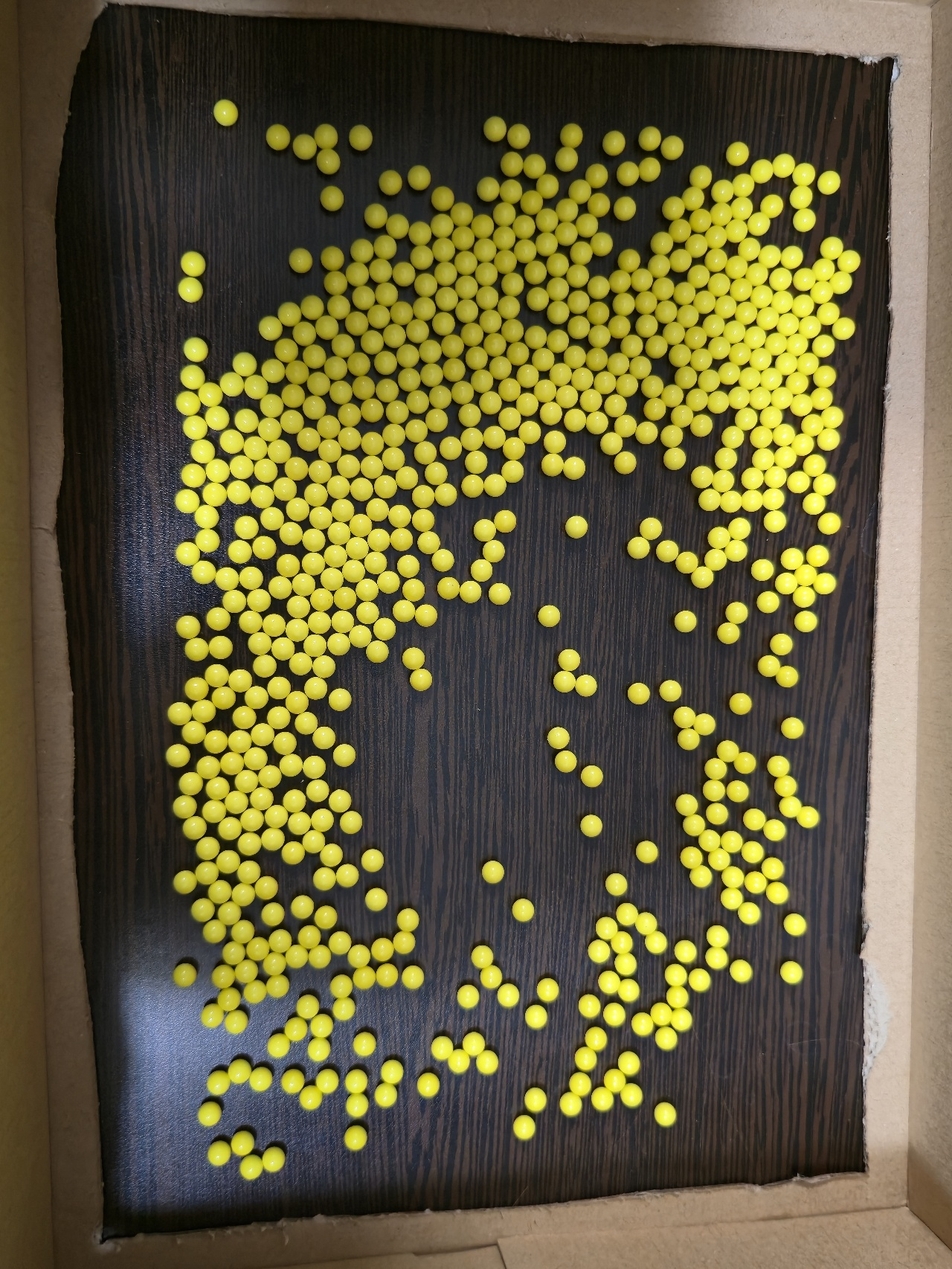yellow_bead: (785, 802, 814, 823), (181, 547, 195, 560), (211, 464, 225, 477), (235, 460, 248, 474), (196, 445, 210, 458), (225, 435, 239, 448), (240, 414, 253, 428), (186, 370, 199, 384), (270, 810, 283, 823), (228, 595, 241, 608), (201, 534, 214, 547), (240, 521, 253, 534), (200, 510, 213, 523), (181, 495, 194, 508), (187, 469, 200, 482), (189, 421, 202, 434), (225, 378, 238, 391), (238, 358, 251, 371), (530, 1010, 542, 1024), (187, 257, 199, 271), (321, 1075, 333, 1088), (386, 1065, 398, 1078), (623, 1057, 635, 1070), (302, 1000, 314, 1013), (680, 945, 692, 958), (789, 919, 802, 931), (214, 885, 226, 898), (202, 842, 214, 855), (184, 777, 196, 790), (309, 761, 321, 774), (234, 545, 246, 558), (208, 488, 220, 501), (233, 486, 245, 499), (279, 483, 292, 495), (260, 464, 272, 477), (249, 442, 262, 454), (303, 433, 315, 446), (266, 399, 278, 412), (181, 397, 193, 410), (250, 381, 263, 393), (267, 364, 279, 377), (774, 273, 787, 285), (756, 165, 768, 178), (530, 1093, 541, 1107), (437, 1042, 448, 1056), (359, 1038, 370, 1052), (380, 1090, 392, 1102), (350, 1076, 362, 1088), (660, 1032, 672, 1044), (694, 974, 706, 986), (407, 971, 419, 983), (353, 950, 365, 962), (334, 937, 346, 949), (274, 935, 286, 947), (744, 907, 756, 919), (297, 901, 309, 913), (367, 855, 379, 867), (747, 846, 759, 858), (308, 835, 320, 847), (294, 817, 306, 829), (246, 814, 258, 826), (240, 775, 252, 787), (172, 750, 184, 762), (279, 737, 291, 749), (300, 717, 312, 729), (273, 712, 285, 724), (277, 643, 289, 655), (309, 640, 321, 652), (254, 637, 266, 649), (268, 620, 280, 632), (292, 601, 304, 613), (274, 582, 286, 594), (298, 579, 310, 591), (329, 550, 341, 562), (308, 534, 320, 546), (333, 527, 345, 539), (479, 524, 491, 536), (315, 512, 327, 524), (808, 498, 820, 510), (257, 490, 269, 502), (366, 461, 378, 473), (343, 460, 355, 472), (445, 442, 457, 454), (727, 431, 739, 443), (263, 423, 275, 435), (286, 416, 298, 428), (308, 402, 320, 414), (762, 312, 774, 324), (519, 1121, 530, 1134), (660, 1108, 671, 1121), (565, 1098, 576, 1111), (482, 1056, 493, 1069), (469, 1038, 480, 1051), (584, 1000, 595, 1013), (463, 990, 474, 1003), (503, 989, 514, 1002), (623, 984, 634, 997), (786, 966, 797, 979), (594, 945, 605, 958), (243, 838, 256, 849), (178, 801, 191, 812), (231, 796, 242, 809), (210, 669, 223, 680), (332, 638, 345, 649), (253, 594, 266, 605), (823, 518, 836, 529), (266, 513, 279, 524), (766, 494, 779, 505), (273, 446, 286, 457), (823, 176, 834, 189), (779, 159, 790, 172), (204, 1109, 215, 1121), (597, 1093, 608, 1105), (313, 1045, 325, 1056), (273, 1041, 284, 1053), (609, 1009, 620, 1021), (336, 980, 347, 992), (670, 969, 682, 980), (736, 965, 747, 977), (477, 951, 488, 963), (712, 931, 724, 942), (402, 914, 414, 925), (267, 908, 279, 919), (371, 893, 382, 905), (611, 878, 622, 890), (341, 870, 353, 881), (223, 855, 234, 867), (326, 849, 337, 861), (287, 847, 299, 858), (641, 846, 652, 858), (267, 834, 279, 845), (224, 823, 235, 835), (189, 822, 201, 833), (586, 820, 597, 832), (208, 806, 220, 817), (289, 795, 300, 807), (250, 753, 262, 764), (338, 750, 350, 761), (257, 729, 269, 740), (273, 682, 285, 693), (318, 661, 330, 672), (295, 658, 307, 669), (776, 639, 788, 650), (291, 624, 303, 635), (337, 616, 349, 627), (762, 597, 774, 608), (780, 578, 792, 589), (383, 576, 394, 588), (348, 565, 360, 576), (787, 553, 798, 565), (571, 521, 582, 533), (769, 516, 781, 527), (337, 504, 349, 515), (292, 504, 304, 515), (747, 495, 759, 506), (356, 483, 367, 495), (332, 481, 344, 492), (720, 453, 732, 464), (387, 453, 399, 464), (367, 437, 379, 448), (550, 436, 561, 448), (344, 432, 356, 443), (489, 431, 500, 443), (388, 429, 400, 440), (620, 420, 631, 432), (570, 414, 581, 426), (431, 414, 443, 425), (504, 413, 515, 425), (765, 412, 777, 423), (797, 399, 808, 411), (724, 367, 735, 379), (780, 359, 792, 370), (837, 323, 849, 334), (265, 323, 277, 334), (783, 318, 794, 330), (823, 308, 834, 320), (835, 277, 846, 289), (843, 256, 855, 267), (826, 242, 837, 254), (795, 191, 807, 202), (627, 1089, 637, 1102), (638, 1018, 648, 1031), (543, 983, 553, 996), (604, 976, 614, 989), (622, 908, 632, 921), (313, 617, 326, 627), (798, 592, 811, 602), (197, 569, 210, 579), (756, 565, 769, 575), (309, 489, 322, 499), (472, 456, 482, 469), (204, 388, 214, 401), (231, 1017, 242, 1028), (291, 951, 302, 962), (228, 948, 239, 959), (651, 937, 662, 948), (237, 925, 248, 936), (641, 918, 652, 929), (224, 908, 235, 919), (518, 905, 529, 916), (319, 873, 330, 884), (355, 631, 366, 642), (379, 623, 390, 634), (494, 588, 505, 599), (820, 578, 831, 589), (403, 560, 414, 571), (681, 557, 692, 568), (710, 554, 721, 565), (437, 554, 448, 565), (731, 545, 742, 556), (633, 542, 644, 553), (423, 537, 434, 548), (734, 523, 745, 534), (646, 523, 657, 534), (356, 519, 367, 530), (394, 510, 405, 521), (372, 504, 383, 515), (704, 495, 715, 506), (418, 490, 429, 501), (440, 489, 451, 500), (490, 480, 501, 491), (718, 475, 729, 486), (771, 472, 782, 483), (697, 472, 708, 483), (548, 459, 559, 470), (758, 454, 769, 465), (670, 453, 681, 464), (324, 445, 335, 456), (798, 439, 809, 450), (606, 438, 617, 449), (823, 434, 834, 445), (466, 433, 477, 444), (756, 431, 767, 442), (779, 429, 790, 440), (411, 425, 422, 436), (807, 420, 818, 431), (741, 414, 752, 425), (827, 412, 838, 423), (733, 392, 744, 403), (562, 391, 573, 402), (745, 373, 756, 384), (714, 342, 725, 353), (792, 339, 803, 350), (738, 179, 749, 190), (454, 1056, 464, 1068), (711, 954, 723, 964), (315, 951, 325, 963), (602, 922, 612, 934), (197, 904, 209, 914), (727, 872, 739, 882), (201, 867, 213, 877), (488, 866, 498, 878), (243, 866, 255, 876), (769, 825, 781, 835), (345, 817, 357, 827), (239, 712, 251, 722), (197, 705, 209, 715), (291, 696, 303, 706), (251, 692, 263, 702), (800, 617, 812, 627), (361, 607, 373, 617), (326, 574, 338, 584), (370, 557, 382, 567), (373, 534, 385, 544), (819, 479, 831, 489), (793, 477, 805, 487), (314, 466, 326, 476), (419, 447, 431, 457), (666, 431, 678, 441), (524, 426, 536, 436), (413, 396, 423, 408), (776, 393, 788, 403), (791, 378, 803, 388), (772, 338, 782, 350), (817, 264, 829, 274), (765, 251, 775, 263), (173, 707, 186, 716), (214, 641, 227, 650), (221, 576, 234, 585), (290, 463, 303, 472), (215, 412, 224, 425), (466, 409, 475, 422), (189, 283, 197, 297), (656, 1008, 666, 1019), (620, 960, 631, 970), (617, 937, 627, 948), (727, 895, 738, 905), (774, 888, 784, 899), (179, 876, 190, 886), (696, 872, 707, 882), (727, 836, 737, 847), (705, 835, 715, 846), (750, 814, 760, 825), (712, 809, 723, 819), (733, 786, 744, 796), (587, 771, 597, 782), (774, 761, 785, 771), (202, 761, 213, 771), (560, 756, 571, 766), (234, 736, 245, 746), (684, 734, 694, 745), (553, 733, 564, 743), (788, 723, 799, 733), (700, 719, 710, 730), (680, 712, 690, 723), (335, 694, 346, 704), (665, 686, 676, 696), (764, 661, 775, 671), (564, 655, 575, 665), (409, 653, 419, 664), (681, 616, 691, 627), (544, 611, 555, 621), (697, 572, 708, 582), (309, 558, 320, 568), (662, 546, 673, 556), (489, 545, 499, 556), (713, 533, 724, 543), (726, 496, 736, 507), (380, 481, 391, 491), (467, 480, 478, 490), (747, 473, 758, 483), (431, 468, 442, 478), (781, 452, 791, 463), (642, 427, 652, 438), (592, 417, 602, 428), (344, 409, 355, 419), (546, 408, 556, 419), (393, 406, 403, 417), (611, 400, 621, 411), (522, 399, 533, 409), (382, 385, 393, 395), (315, 378, 325, 389), (578, 373, 588, 384), (570, 351, 580, 362), (404, 350, 414, 361), (750, 332, 760, 343), (299, 328, 310, 338), (284, 309, 295, 319), (442, 292, 452, 303), (359, 292, 370, 302), (264, 771, 276, 780), (234, 675, 246, 684), (259, 661, 271, 670), (245, 616, 257, 625), (398, 605, 410, 614), (401, 472, 413, 481), (715, 396, 724, 408), (524, 370, 533, 382), (187, 726, 200, 734), (190, 643, 203, 651), (258, 542, 271, 550), (715, 855, 725, 865), (682, 800, 692, 810), (711, 764, 721, 774), (723, 746, 733, 756), (634, 688, 644, 698), (732, 608, 742, 618), (801, 570, 811, 580), (678, 411, 688, 421), (486, 397, 496, 407), (586, 395, 596, 405), (705, 375, 715, 385), (556, 369, 566, 379), (427, 369, 437, 379), (426, 346, 436, 356), (730, 327, 740, 337), (709, 320, 719, 330), (463, 305, 473, 315), (778, 297, 788, 307), (483, 292, 493, 302), (462, 282, 472, 292), (668, 142, 678, 152), (352, 1133, 361, 1144), (678, 1015, 687, 1026), (243, 966, 252, 977), (399, 938, 410, 947), (209, 925, 220, 934), (689, 820, 700, 829), (709, 786, 720, 795), (282, 559, 293, 568), (813, 550, 824, 559), (620, 457, 631, 466), (694, 394, 703, 405), (756, 393, 765, 404), (437, 391, 446, 402), (336, 387, 347, 396), (540, 385, 551, 394), (338, 340, 349, 349), (506, 301, 515, 312), (799, 300, 808, 311), (753, 269, 762, 280), (419, 251, 428, 262), (733, 225, 742, 236), (439, 220, 448, 231), (268, 1154, 280, 1162), (489, 971, 497, 983), (237, 890, 249, 898), (256, 796, 268, 804), (312, 788, 324, 796), (318, 736, 330, 744), (285, 531, 297, 539), (285, 764, 298, 771), (212, 613, 225, 620), (245, 576, 258, 583), (274, 983, 284, 992), (261, 881, 271, 890), (783, 781, 792, 791), (581, 681, 591, 690), (421, 610, 431, 619), (501, 515, 511, 524), (324, 421, 334, 430), (698, 420, 707, 430), (460, 387, 469, 397), (406, 374, 415, 384), (497, 362, 506, 372), (637, 362, 646, 372), (670, 328, 679, 338), (643, 320, 652, 330), (421, 303, 430, 313), (308, 303, 318, 312), (759, 291, 768, 301), (656, 260, 665, 270), (597, 238, 607, 247), (733, 147, 743, 156), (182, 970, 190, 981), (210, 736, 221, 744), (396, 534, 407, 542), (507, 466, 518, 474), (392, 330, 400, 341), (744, 307, 752, 318), (723, 301, 731, 312), (702, 296, 710, 307), (556, 283, 564, 294), (747, 243, 755, 254), (181, 624, 195, 630), (351, 546, 363, 553), (271, 960, 280, 969), (306, 931, 315, 940), (602, 377, 611, 386), (479, 376, 488, 385), (540, 354, 549, 363), (628, 341, 637, 350), (596, 331, 605, 340), (414, 327, 423, 336), (684, 312, 693, 321), (400, 269, 409, 278), (378, 266, 387, 275), (543, 239, 552, 248), (416, 228, 425, 237), (698, 171, 707, 180), (578, 1078, 586, 1088), (252, 987, 260, 997), (322, 911, 332, 919), (689, 852, 697, 862), (724, 628, 734, 636), (670, 391, 678, 401), (624, 379, 632, 389), (684, 372, 692, 382), (333, 362, 341, 372), (324, 322, 332, 332), (596, 282, 604, 292), (716, 279, 724, 289), (484, 268, 492, 278), (623, 203, 631, 213), (300, 143, 310, 151), (673, 995, 684, 1002), (334, 800, 345, 807), (443, 582, 454, 589), (476, 569, 487, 576), (418, 515, 429, 522), (569, 466, 580, 473), (371, 336, 378, 347), (489, 315, 496, 326), (557, 307, 564, 318), (695, 240, 702, 251), (565, 153, 572, 164), (240, 1140, 248, 1149), (767, 863, 779, 869), (739, 698, 747, 707), (310, 687, 322, 693), (341, 592, 350, 600), (511, 443, 520, 451), (616, 359, 624, 368), (196, 344, 202, 356), (533, 332, 541, 341), (377, 312, 385, 321), (536, 294, 544, 303), (384, 289, 392, 298), (713, 254, 721, 263), (360, 246, 368, 255), (382, 242, 390, 251), (660, 238, 668, 247), (486, 184, 494, 193), (611, 138, 620, 146), (208, 1011, 218, 1018), (227, 758, 237, 765), (316, 594, 326, 601), (651, 381, 658, 391), (700, 354, 707, 364), (665, 306, 672, 316), (356, 269, 363, 279), (735, 261, 742, 271), (679, 254, 686, 264), (484, 245, 491, 255), (771, 201, 778, 211), (810, 460, 821, 466), (338, 301, 344, 312), (411, 585, 419, 593), (690, 193, 698, 201), (416, 173, 424, 181), (219, 692, 228, 699), (508, 384, 515, 393), (475, 353, 482, 362), (662, 284, 669, 293), (640, 274, 647, 283), (576, 271, 583, 280), (442, 245, 449, 254), (648, 164, 655, 173), (533, 161, 540, 170), (494, 124, 501, 133), (314, 351, 320, 361), (680, 350, 686, 360), (739, 348, 745, 358), (443, 318, 449, 328), (445, 268, 451, 278), (504, 209, 510, 219), (628, 168, 634, 178), (327, 156, 333, 166), (584, 1056, 591, 1064), (785, 672, 793, 679), (365, 588, 373, 595), (371, 405, 378, 413), (740, 286, 747, 294), (465, 258, 472, 266), (298, 256, 305, 264), (524, 246, 531, 254), (503, 234, 510, 242), (396, 222, 403, 230), (648, 133, 655, 141), (317, 820, 328, 825), (416, 678, 427, 683), (381, 943, 387, 952), (467, 590, 476, 596), (283, 347, 292, 353), (579, 323, 585, 332), (356, 318, 362, 327), (623, 299, 629, 308), (684, 288, 690, 297), (425, 280, 431, 289), (512, 279, 518, 288), (698, 271, 704, 280), (581, 248, 587, 257), (587, 220, 593, 229), (385, 357, 390, 367), (558, 336, 563, 346), (273, 134, 283, 139), (220, 971, 227, 978), (383, 971, 390, 978), (293, 1027, 299, 1035), (228, 997, 234, 1005), (744, 757, 750, 765), (715, 232, 721, 240), (524, 222, 530, 230), (753, 218, 765, 222), (375, 211, 381, 219), (673, 203, 679, 211), (509, 187, 517, 193), (323, 133, 331, 139), (425, 1085, 434, 1090), (655, 404, 660, 413), (657, 341, 662, 350), (579, 297, 584, 306), (567, 229, 572, 238), (548, 215, 553, 224), (722, 208, 727, 217), (519, 132, 524, 141), (595, 1033, 602, 1039), (362, 974, 368, 981), (256, 945, 262, 952), (695, 334, 701, 341), (566, 208, 573, 214), (331, 195, 337, 202), (360, 135, 366, 142), (581, 186, 585, 196), (357, 1102, 363, 1108), (292, 393, 298, 399), (596, 355, 602, 361), (512, 327, 518, 333), (537, 267, 541, 276), (332, 254, 338, 260), (262, 1076, 267, 1083), (620, 322, 625, 329), (401, 309, 406, 316), (336, 280, 341, 287), (721, 185, 728, 190), (512, 159, 517, 166), (224, 116, 231, 121), (240, 1067, 245, 1073), (565, 681, 570, 687), (364, 385, 370, 390), (455, 367, 460, 373), (359, 360, 364, 366), (519, 350, 524, 356), (472, 331, 477, 337), (620, 278, 625, 284), (464, 236, 469, 242), (461, 210, 466, 216), (548, 182, 553, 188), (390, 179, 395, 185), (559, 262, 563, 269), (799, 219, 803, 226), (598, 170, 602, 177), (220, 106, 229, 109), (345, 1005, 350, 1010), (496, 342, 501, 347), (617, 1079, 620, 1087), (806, 359, 814, 362), (646, 300, 652, 304), (803, 274, 811, 277), (631, 256, 634, 263), (319, 1020, 324, 1024), (379, 650, 383, 655), (452, 344, 457, 348), (484, 225, 489, 229), (682, 227, 685, 233), (804, 214, 810, 217), (600, 311, 604, 315), (573, 132, 576, 137), (254, 1165, 257, 1169), (222, 1152, 225, 1156), (256, 1075, 260, 1078), (298, 370, 300, 376), (444, 196, 447, 200), (817, 393, 820, 396), (818, 341, 821, 344), (825, 287, 828, 290), (800, 283, 803, 286), (800, 274, 803, 277), (800, 215, 803, 218), (559, 681, 562, 683), (805, 323, 808, 325), (787, 260, 789, 263), (508, 257, 509, 263), (704, 219, 706, 222), (602, 202, 604, 205), (591, 1037, 593, 1039), (372, 650, 374, 652), (774, 374, 776, 376), (828, 372, 830, 374), (795, 252, 797, 254), (738, 203, 740, 205), (534, 202, 536, 204), (770, 373, 773, 374), (824, 371, 827, 372), (810, 321, 813, 322), (791, 251, 794, 252), (756, 877, 757, 879), (826, 394, 827, 396), (819, 377, 820, 379), (817, 346, 818, 348), (194, 343, 196, 344), (799, 278, 800, 280), (718, 187, 720, 188), (352, 1103, 353, 1104), (213, 1081, 214, 1082), (221, 788, 222, 789), (222, 785, 223, 786), (190, 687, 191, 688), (828, 341, 829, 342), (824, 340, 825, 341), (788, 253, 789, 254), (742, 202, 743, 203), (798, 178, 799, 179), (808, 170, 809, 171), (216, 1151, 219, 1151), (234, 1070, 235, 1070), (779, 869, 779, 870), (768, 375, 768, 376)
